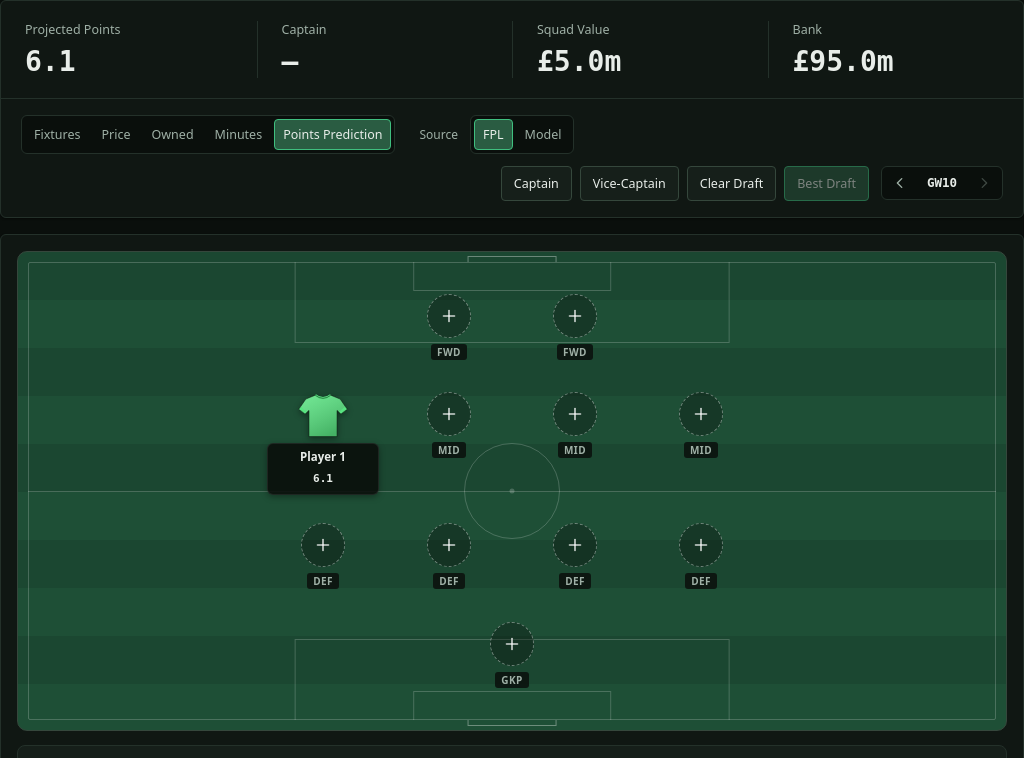
Test: <gameweek_arrows> the pitch's gameweek › the cards show the gameweek given: its points and its expected minutes
Expected: the 2nd text "6.1" is shown, [313,472,333,485]
Click the radio button with aria-label "Expected minutes": x=238, y=134 [206,119,271,150]
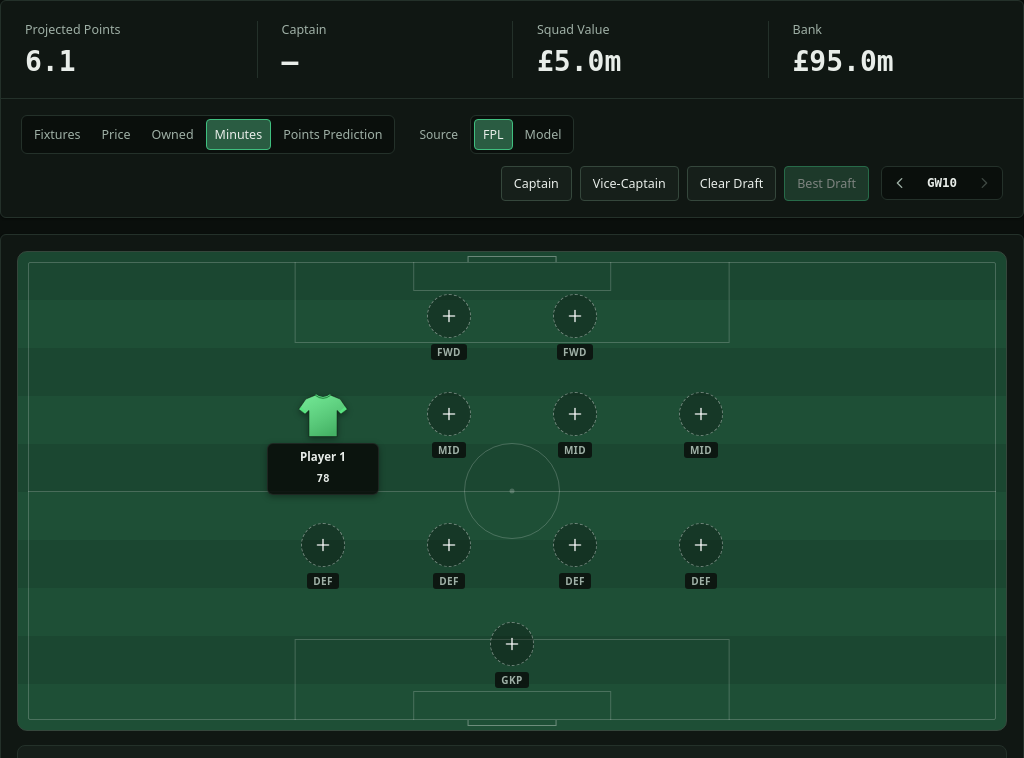
Result: the text "78" is shown at [316,472,330,485]
